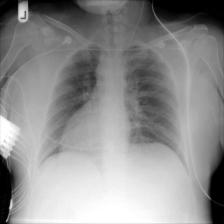normal: (40, 40, 187, 168)
